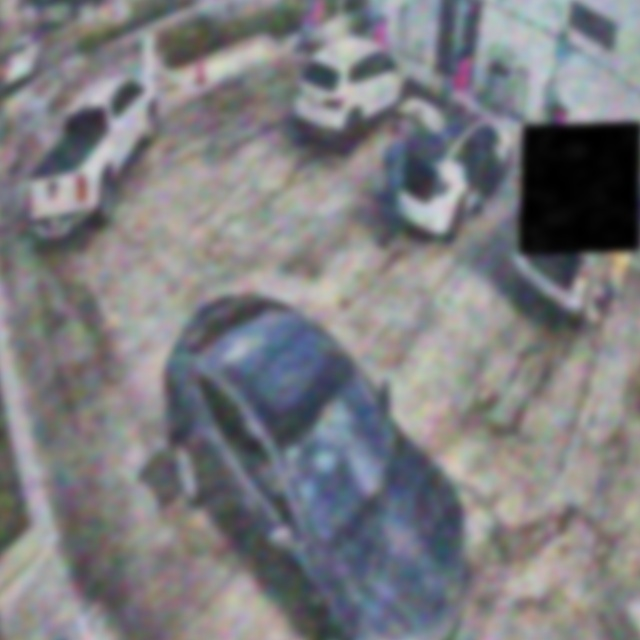Car: (139, 270, 481, 640), (384, 85, 518, 240)
